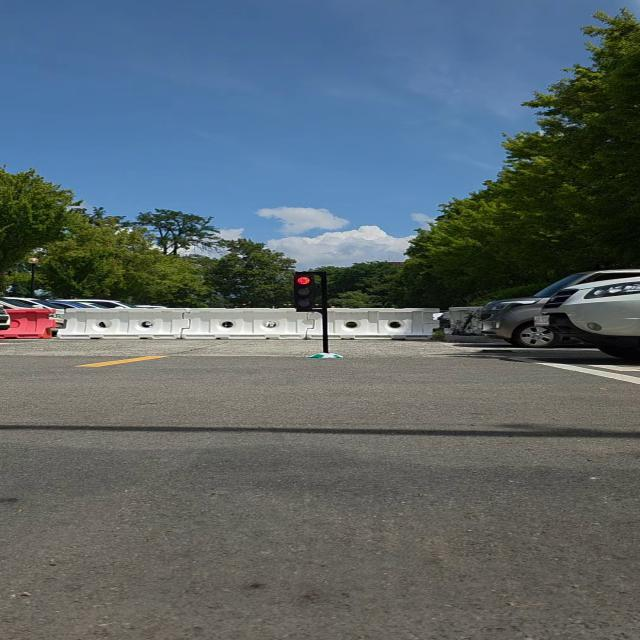red: (290, 270, 316, 308)
